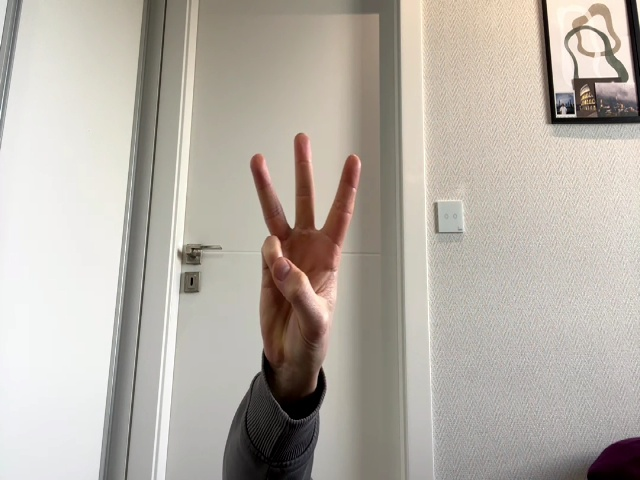W: (251, 133, 361, 360)
